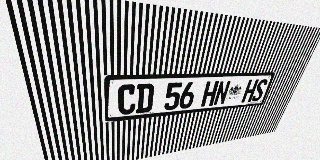5: (164, 82, 183, 111)
6: (178, 82, 197, 109)
C: (118, 84, 137, 115)
D: (136, 83, 154, 113)
H: (201, 81, 219, 107), (241, 79, 259, 103)
N: (213, 80, 231, 105)
S: (251, 79, 269, 102)
